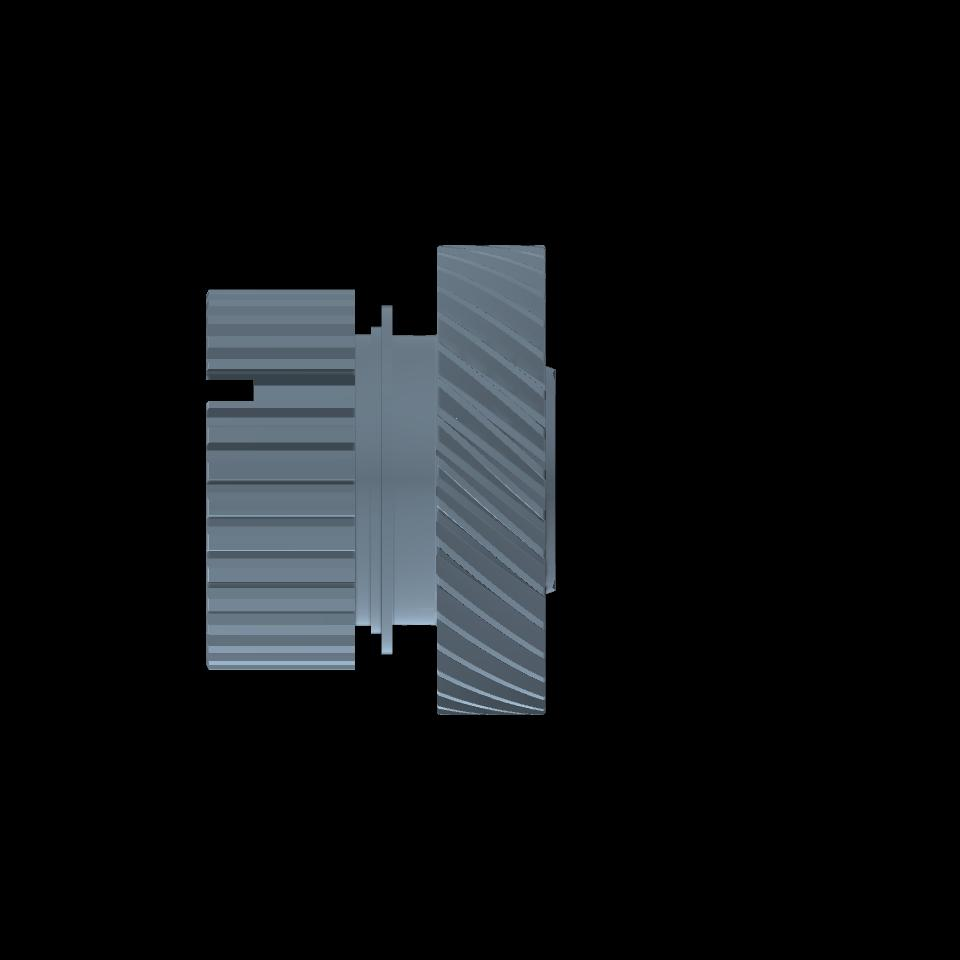Helical: (439, 245, 542, 714)
Straight: (211, 289, 354, 669)
